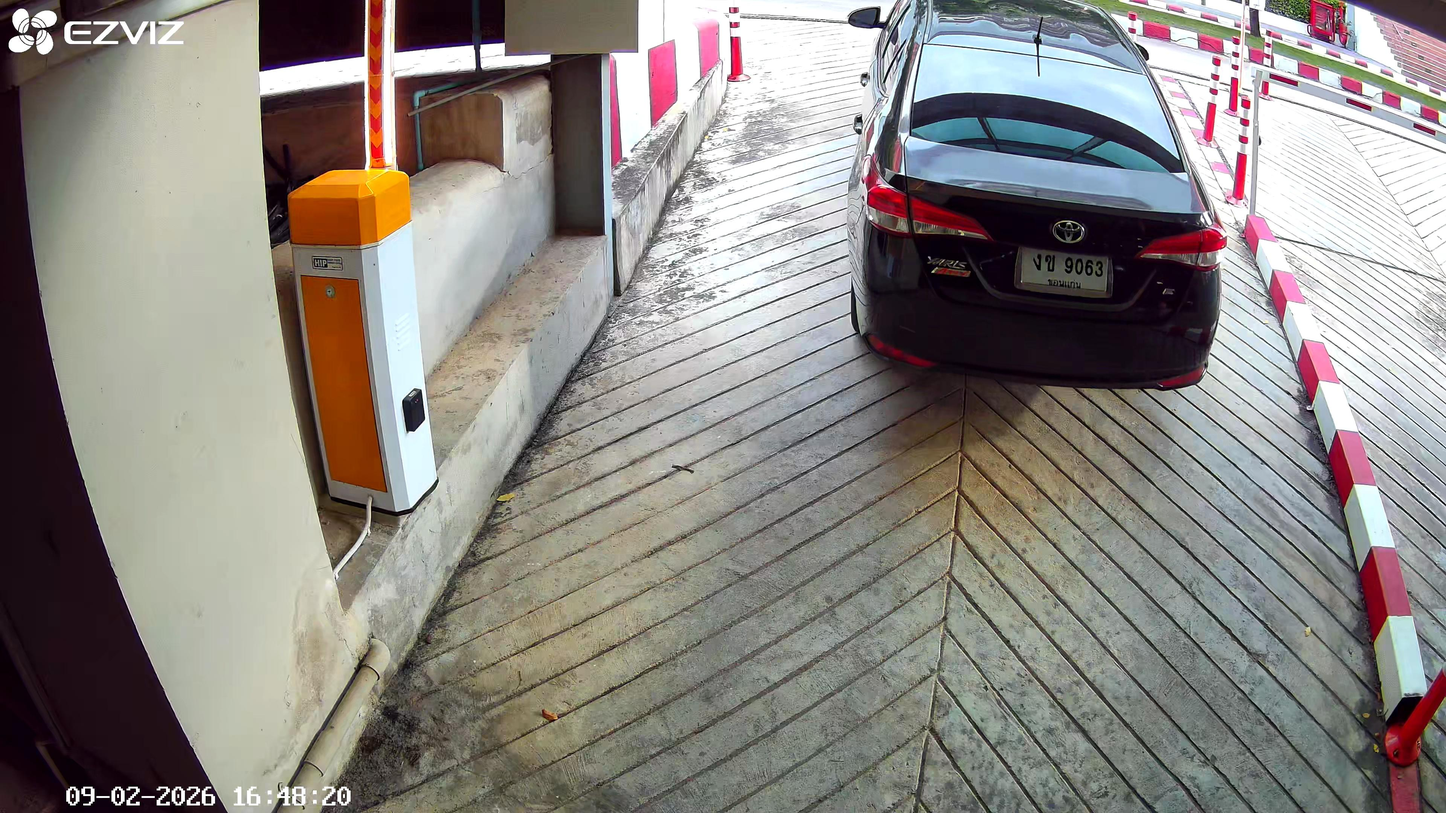car: (852, 8, 1225, 383)
license-plate: (1014, 242, 1115, 298)
